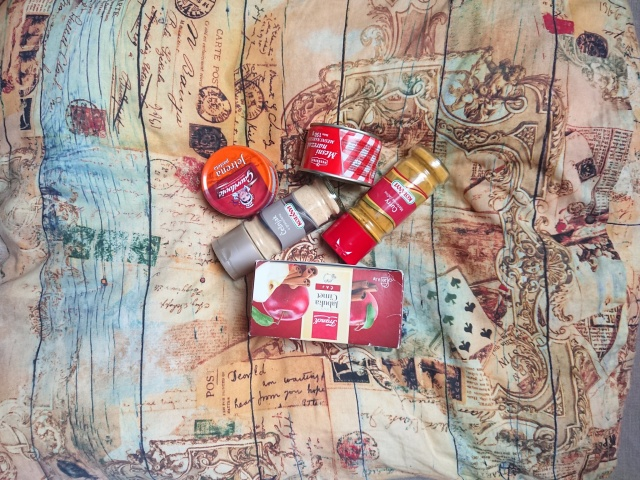Franck Apple Cinnamon Tea 60g: (246, 256, 406, 350)
Gavrilovic Pork Liver Pate 100g: (197, 142, 281, 222)
Kotanyi Curry Spices Mix 70g: (318, 142, 454, 267)
Kotanyi Garlic Granules 70g: (208, 172, 347, 283)
Podravka Luncheon Meat 150g: (298, 120, 385, 189)
